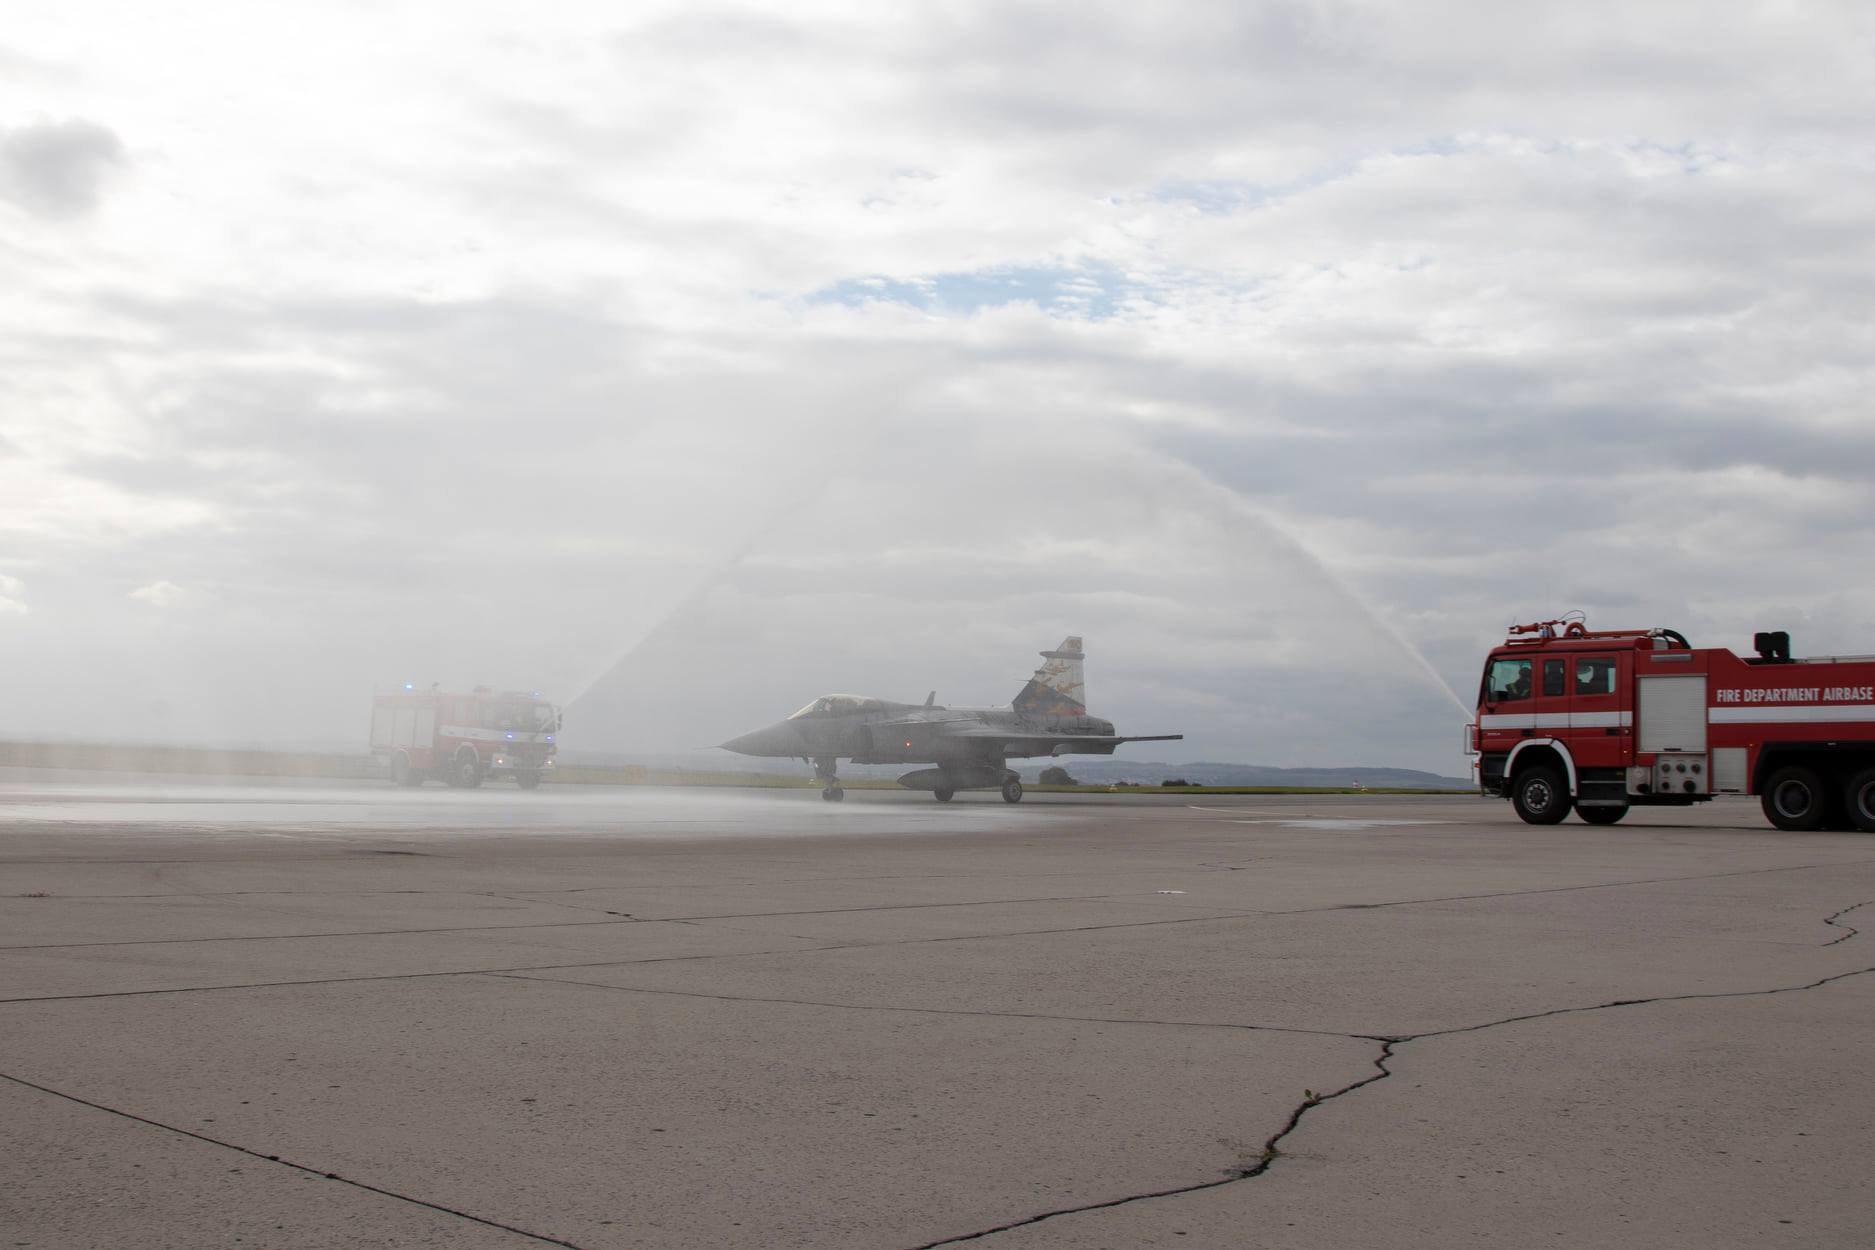JAS39: (691, 635, 1183, 804)
